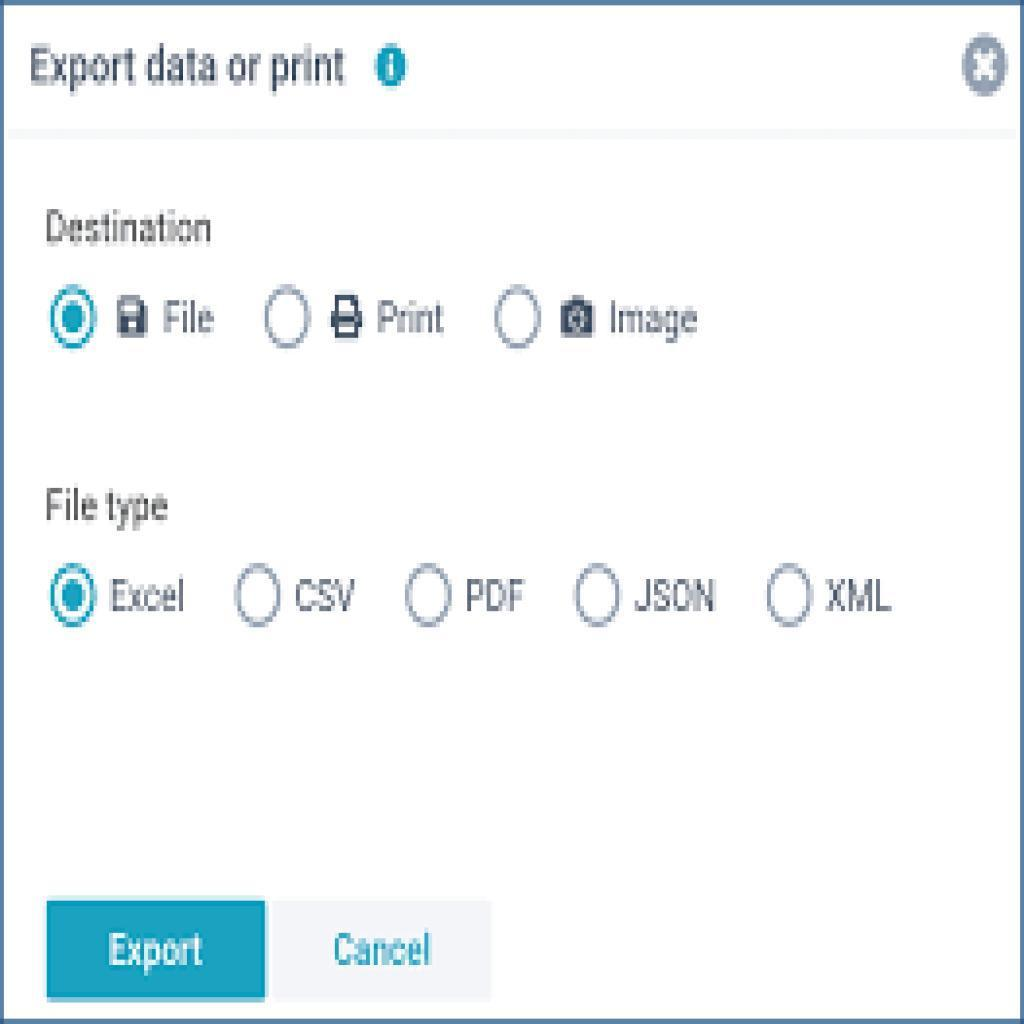button: (46, 899, 268, 999), (274, 904, 495, 1002)
icon: (962, 31, 1013, 99), (327, 292, 371, 344), (114, 291, 155, 342), (374, 41, 413, 93), (560, 292, 599, 340)
label: (607, 295, 701, 343), (631, 572, 719, 618), (821, 572, 897, 621), (377, 294, 451, 341), (110, 575, 190, 618), (161, 292, 224, 339), (464, 574, 529, 617), (294, 575, 361, 615)
radio: (231, 559, 287, 634), (48, 560, 103, 635), (402, 560, 457, 633), (48, 280, 101, 355), (572, 560, 625, 633), (766, 561, 818, 630), (263, 282, 314, 352), (496, 281, 546, 351)
